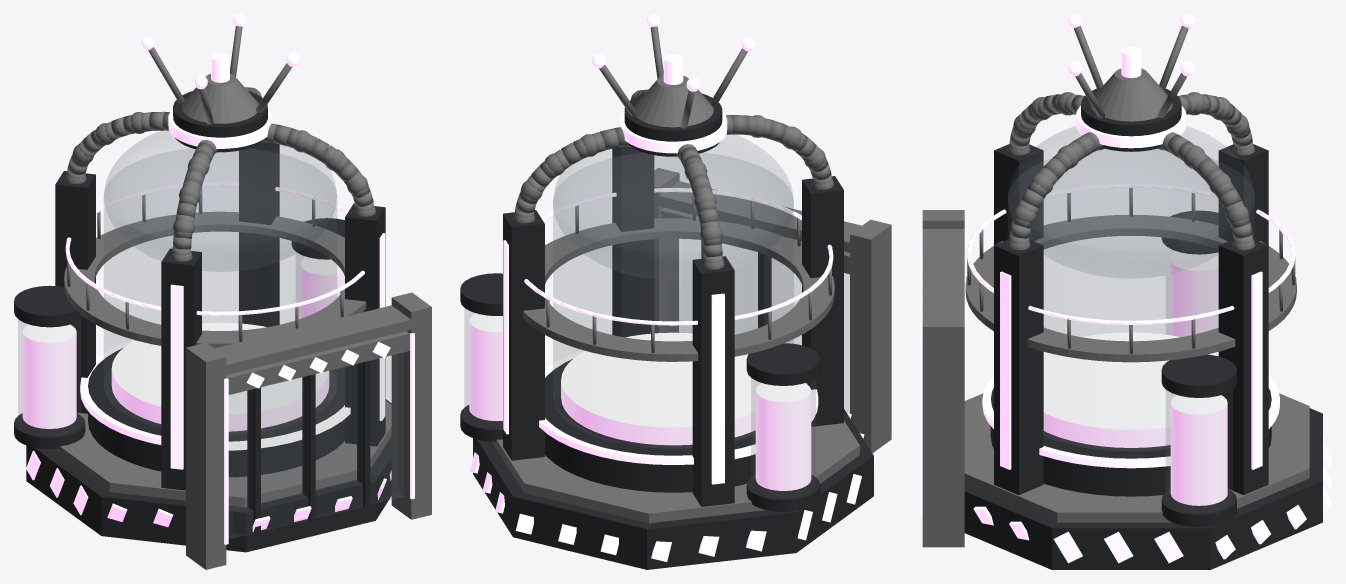
The model's file is MonsterVat_NULL.glb.
The picture shows the model from 3 angles, left to right: view 1: azimuth 30°, elevation 25°; view 2: azimuth 150°, elevation 25°; view 3: azimuth 270°, elevation 25°; orthographic projection. The views are drawn at different scales.
Parts seen in each view (by area): view 1: MonsterVat_NULL, MonsterVat_NULL_Gate; view 2: MonsterVat_NULL, MonsterVat_NULL_Gate; view 3: MonsterVat_NULL.
Part boxes in pixels (x1=…): MonsterVat_NULL: x1=14, y1=14, x2=431, y2=569; MonsterVat_NULL_Gate: x1=226, y1=331, x2=409, y2=538; MonsterVat_NULL: x1=460, y1=14, x2=891, y2=569; MonsterVat_NULL_Gate: x1=660, y1=208, x2=849, y2=413; MonsterVat_NULL: x1=920, y1=14, x2=1331, y2=569.
Bounding box in the file's own units: 4.95 × 5.93 × 4.91.
